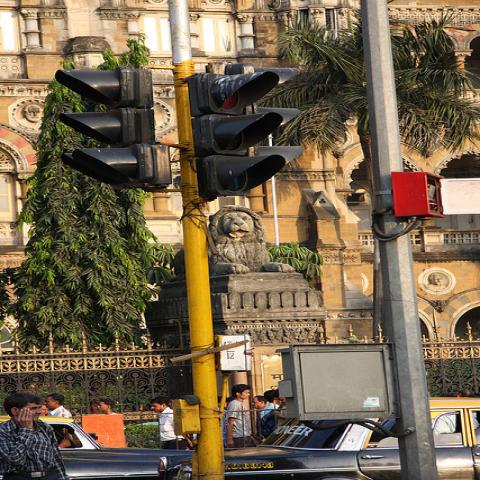car: (158, 398, 479, 480), (0, 416, 196, 480)
